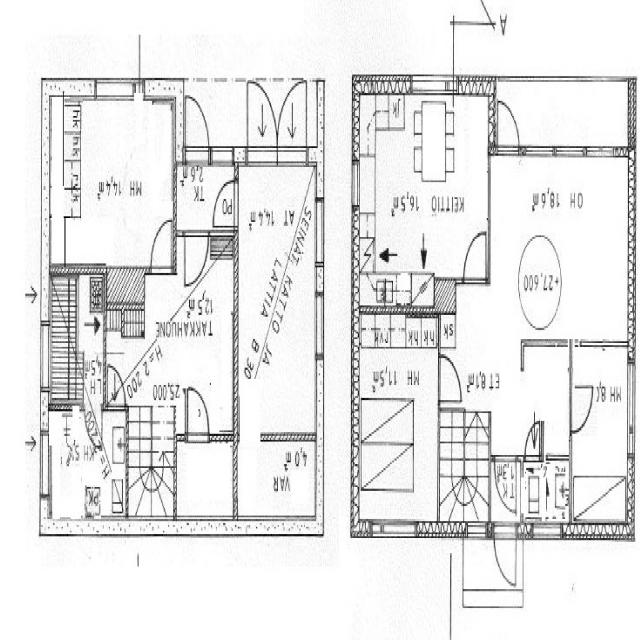door: (247, 82, 277, 166), (277, 82, 306, 166), (184, 95, 208, 166), (494, 520, 516, 586), (185, 229, 208, 286), (187, 386, 209, 442), (212, 180, 238, 226), (464, 230, 486, 284), (494, 455, 516, 507), (498, 101, 518, 157), (151, 221, 172, 274), (437, 355, 461, 400), (569, 386, 592, 431), (85, 405, 102, 449), (108, 368, 124, 412), (524, 423, 540, 460)
